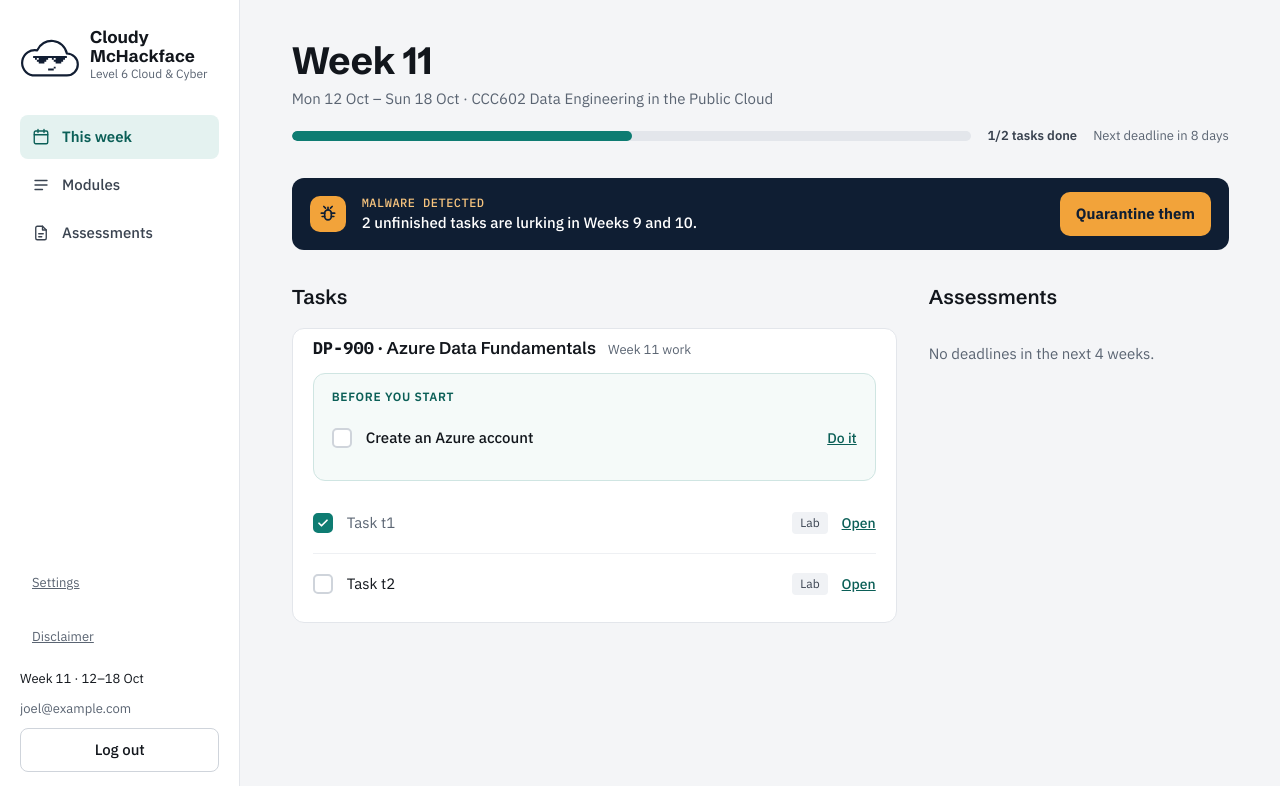
ThisWeekPage › warns about lurking tasks and opens them on Quarantine
The image size is (1280, 786).
Check: the text "2 unfinished tasks are lurking in Weeks 9 and 10." is shown, box [362, 212, 697, 232]
Check: the checkbox labelled "Task old1" is not shown
Click the button "Quarantine them" at (1135, 214), box [1060, 192, 1211, 236]
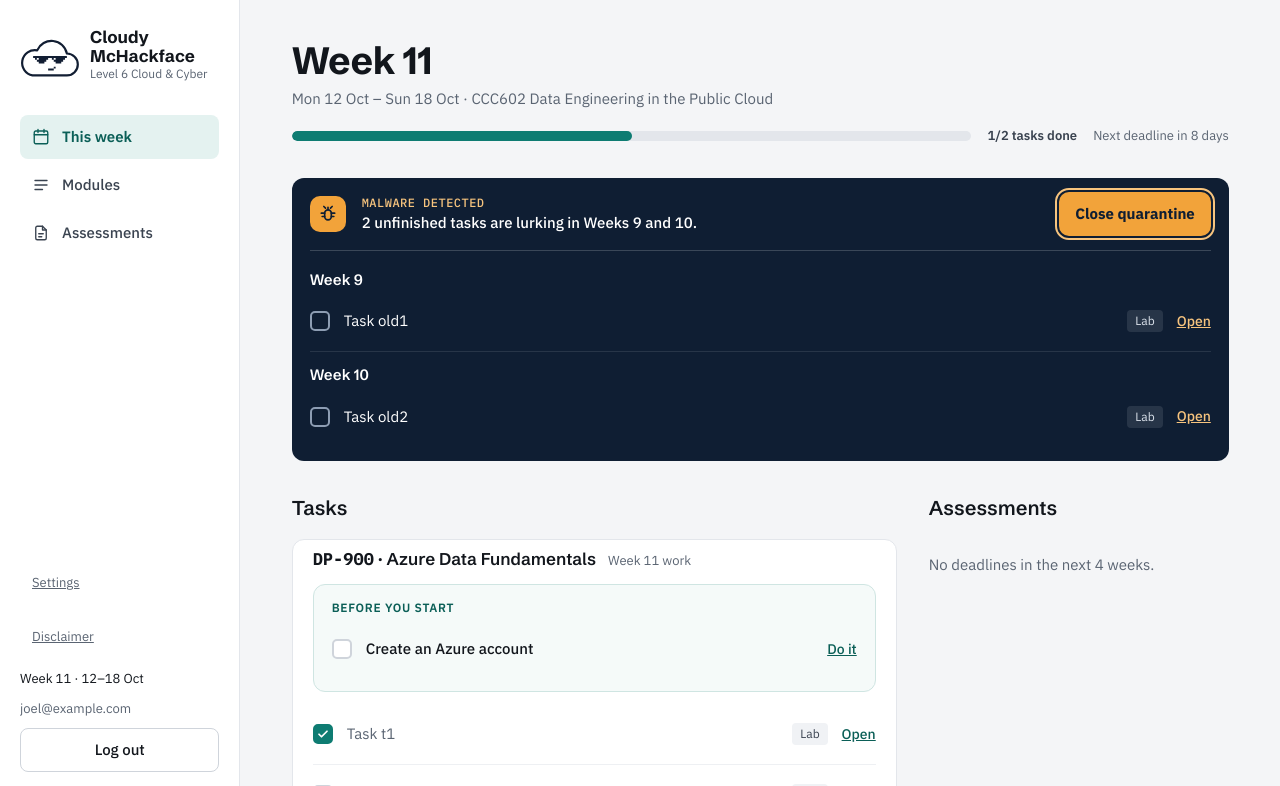
Check: the button "Close quarantine" is expanded, box [1059, 192, 1211, 236]
Check: the heading "Week 9" is shown, box [310, 269, 363, 291]
Check: the checkbox labelled "Task old1" is shown, box [310, 311, 330, 331]
